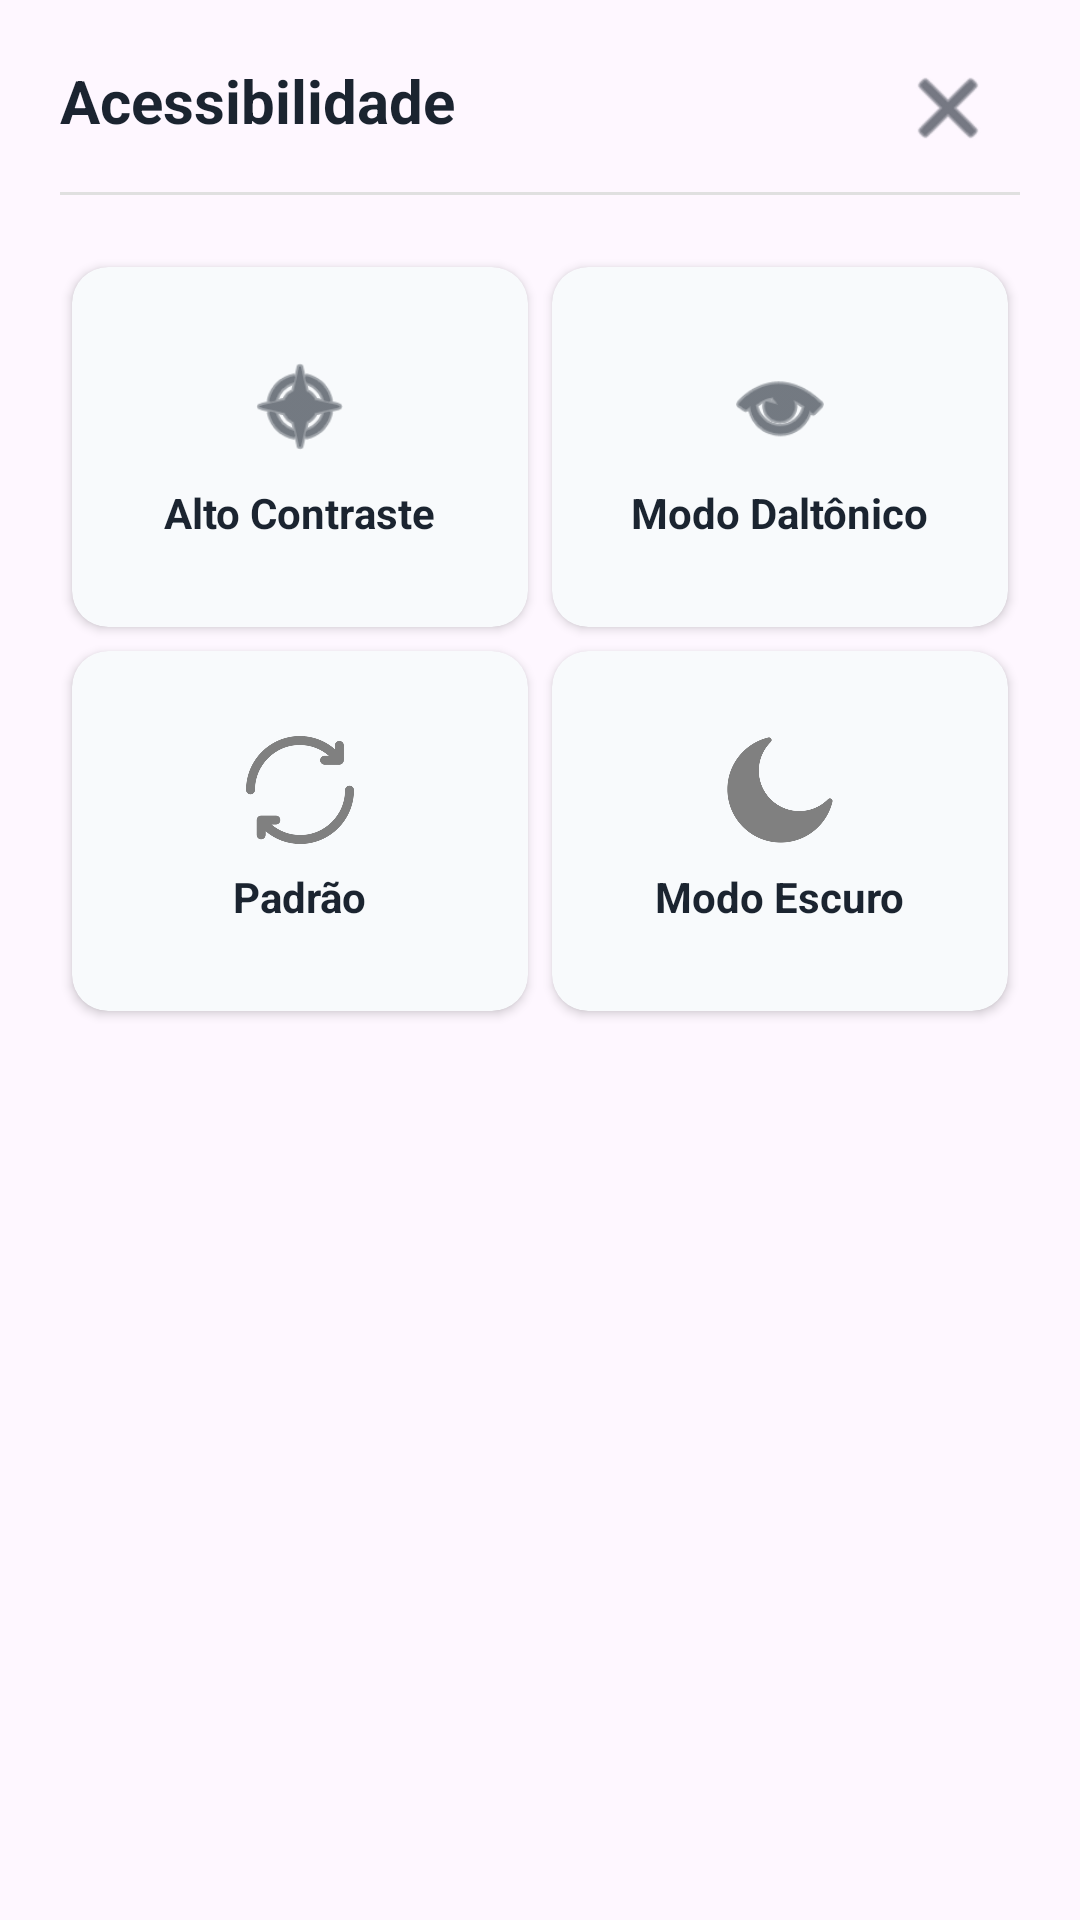

Icon click points for this 1080 × 1920 phone screenshot, format [x,y]:
close clear cancel: [948,108]
compass: [299,406]
lua: [780,790]
view: [780,409]
